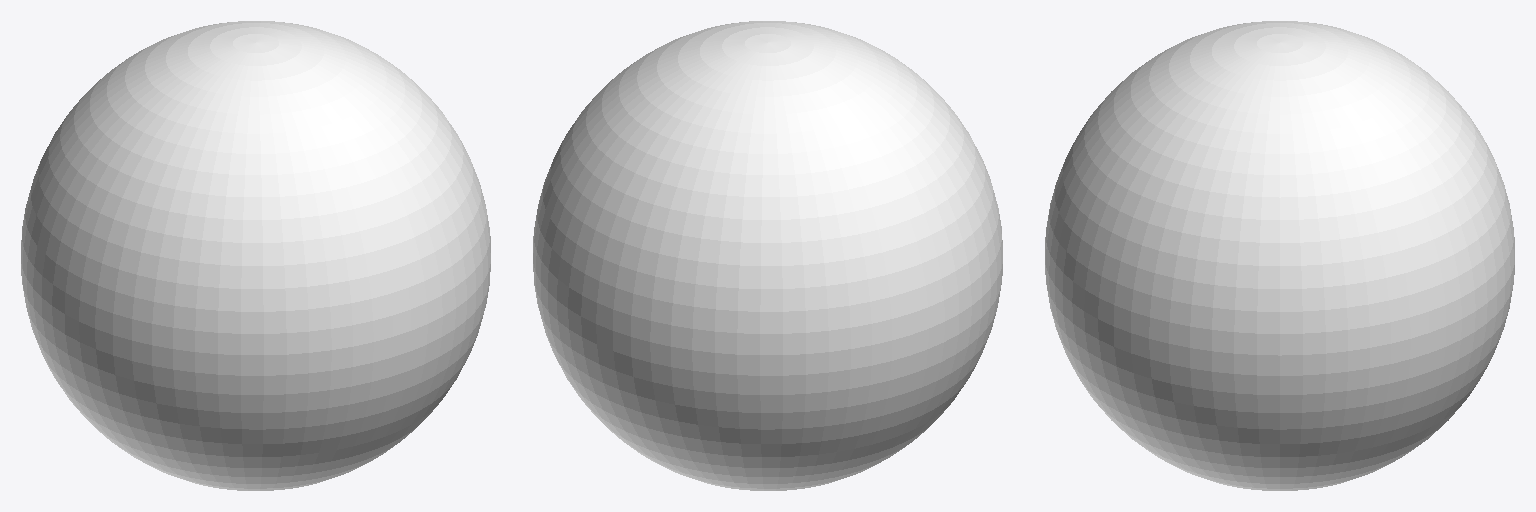
The model's file is earth.obj.
3 views of the same model, side by side, from view 1: azimuth 30°, elevation 25°; view 2: azimuth 150°, elevation 25°; view 3: azimuth 270°, elevation 25° (orthographic).
Parts seen in each view (by area): view 1: Sphere001; view 2: Sphere001; view 3: Sphere001.
Boxes of the visible parts, x1,y1,x2,y2 form: Sphere001: [21, 21, 490, 490]; Sphere001: [533, 21, 1002, 490]; Sphere001: [1045, 21, 1514, 490].
Size of the model in its own units: 682 by 682 by 682.